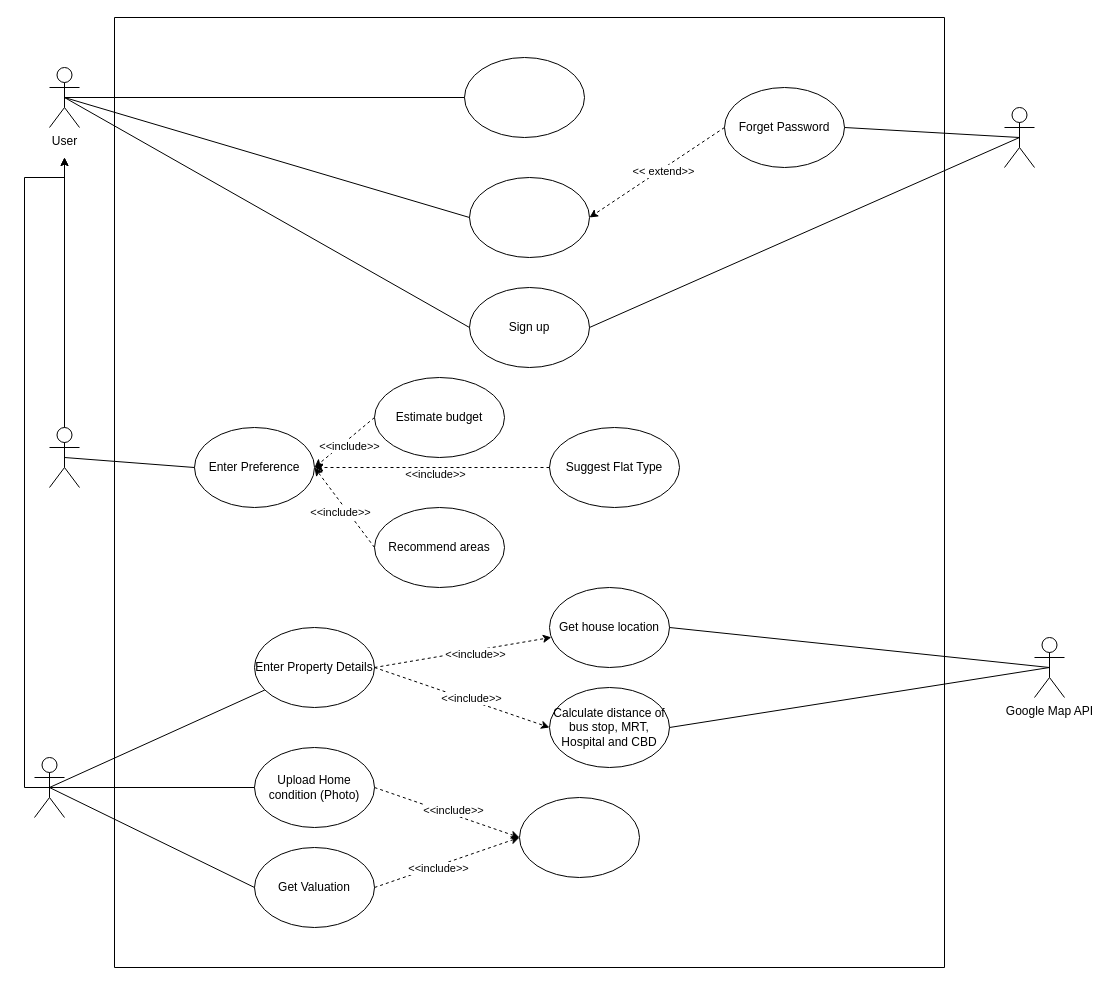
This 1110x985 diagram has some shape labels left out. The centre of each missing label's shape, as x and y in pixels:
Buyer: (x=64, y=457)
Image recognition to determine the condition of property: (x=579, y=837)
Logout: (x=524, y=97)
Seller: (x=49, y=787)
Sign in: (x=529, y=217)
Supabase Auth: (x=1019, y=137)
